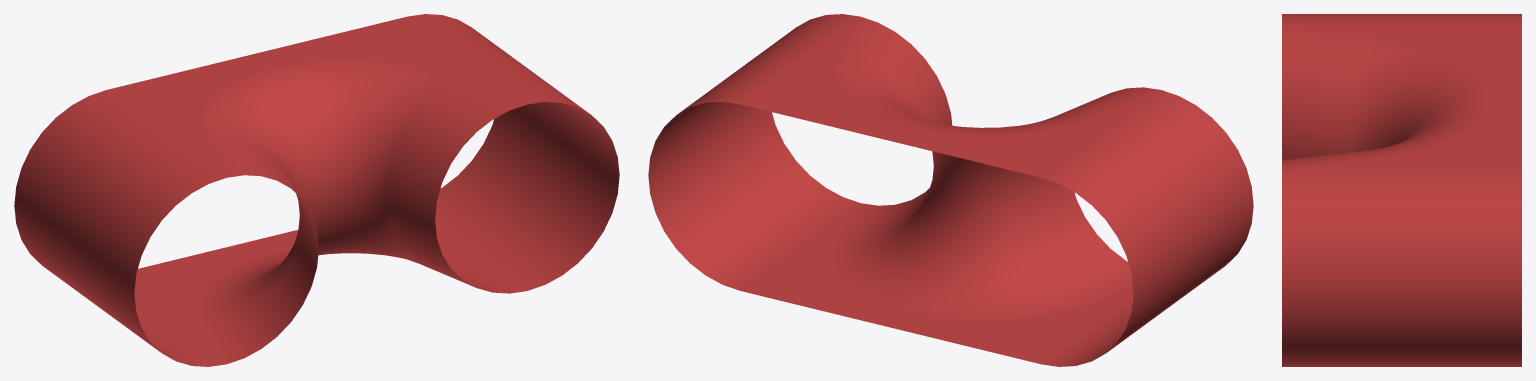
The model's file is 20190731_bridgingTest15radius.obj.
3 views of the same model, side by side, from view 1: azimuth 30°, elevation 25°; view 2: azimuth 150°, elevation 25°; view 3: azimuth 270°, elevation 25° (orthographic).
Size of the model in its own units: 163 by 60 by 70.
